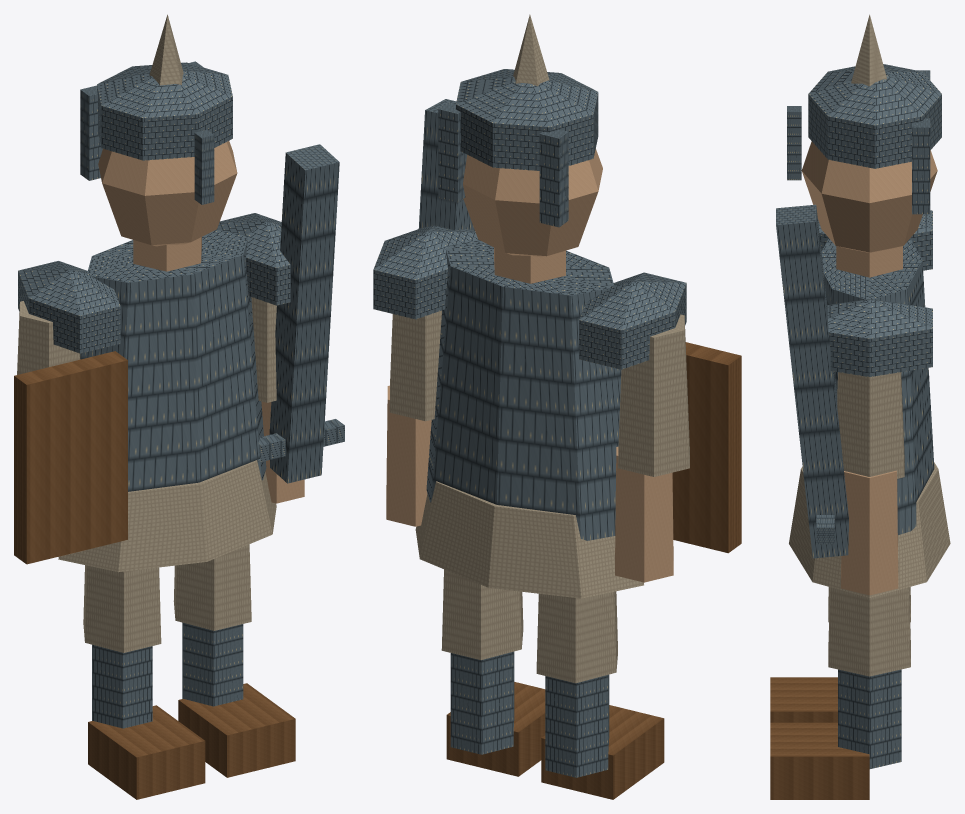
File: unit-SWORD-lod1.glb
3 renders of one model, left to right at view 1: azimuth 30°, elevation 25°; view 2: azimuth 150°, elevation 25°; view 3: azimuth 270°, elevation 25°, orthographic. The views are drawn at different scales.
Size of the model in its own units: 0.207 by 0.448 by 0.098.
Materials: 1 (1 with a texture image).
